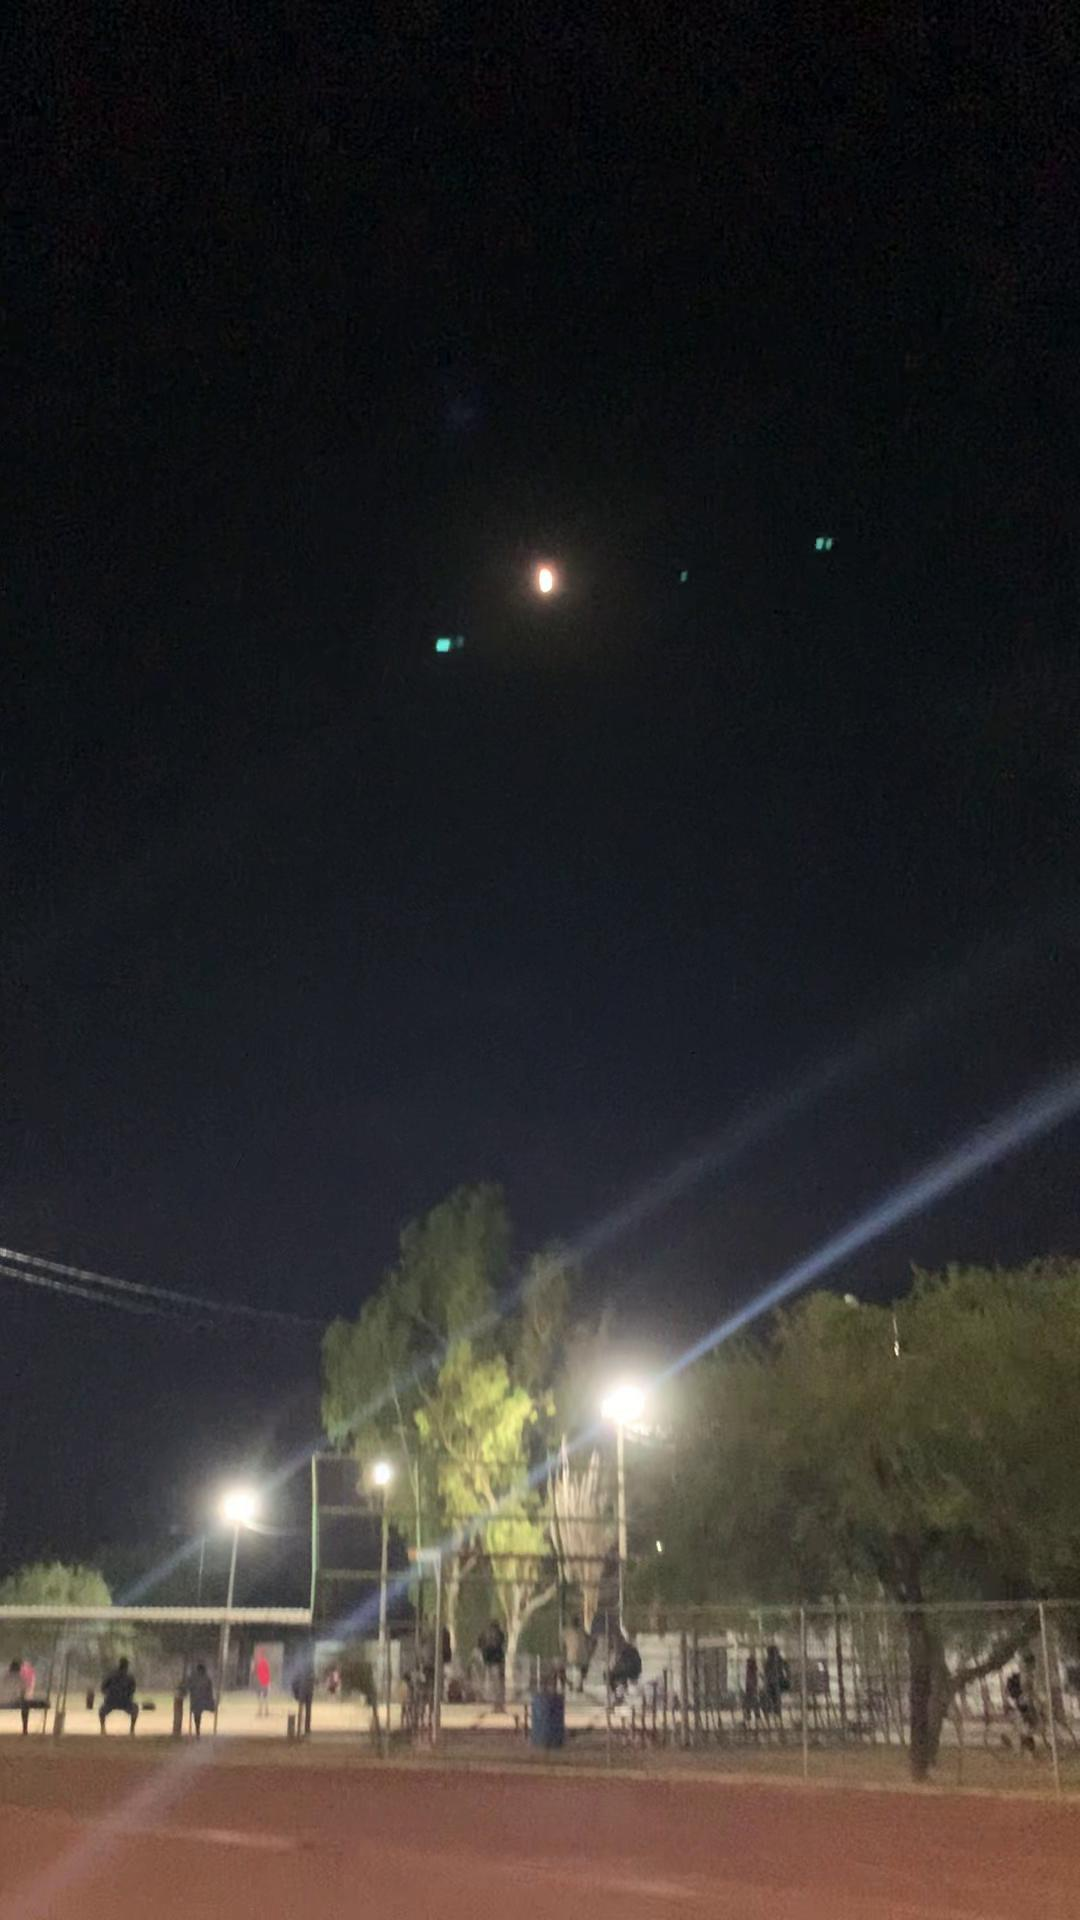moon: (514, 547, 583, 613)
